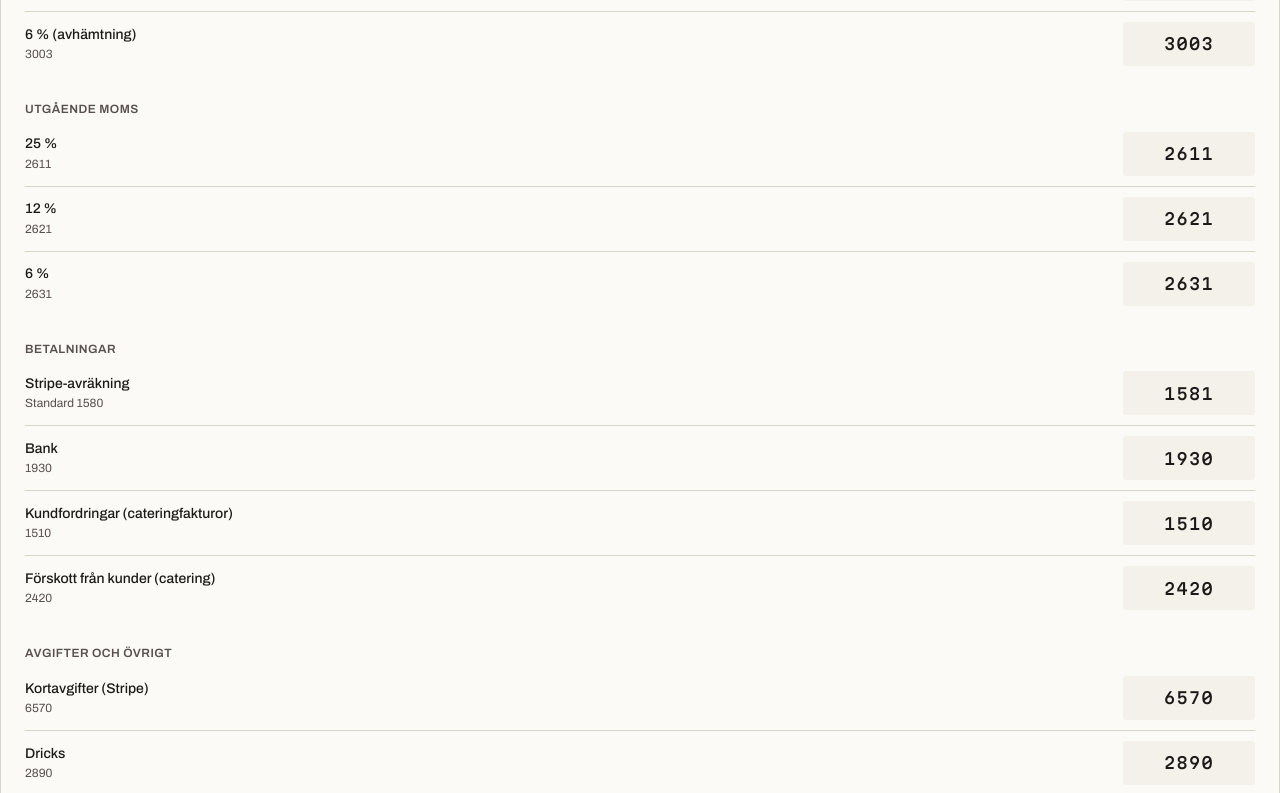
Test case: BokforingCard › validates four digits, saves and resets to the BAS defaults
The image size is (1280, 793).
(page scrolled)
expect the text "Standard 1580" is shown: met, box [25,396,103,410]
Replace the text in the field labelled "Stripe-avräkning Standard 1580" with "15a": (1189,393) [1123,371,1255,415]
(page scrolled)
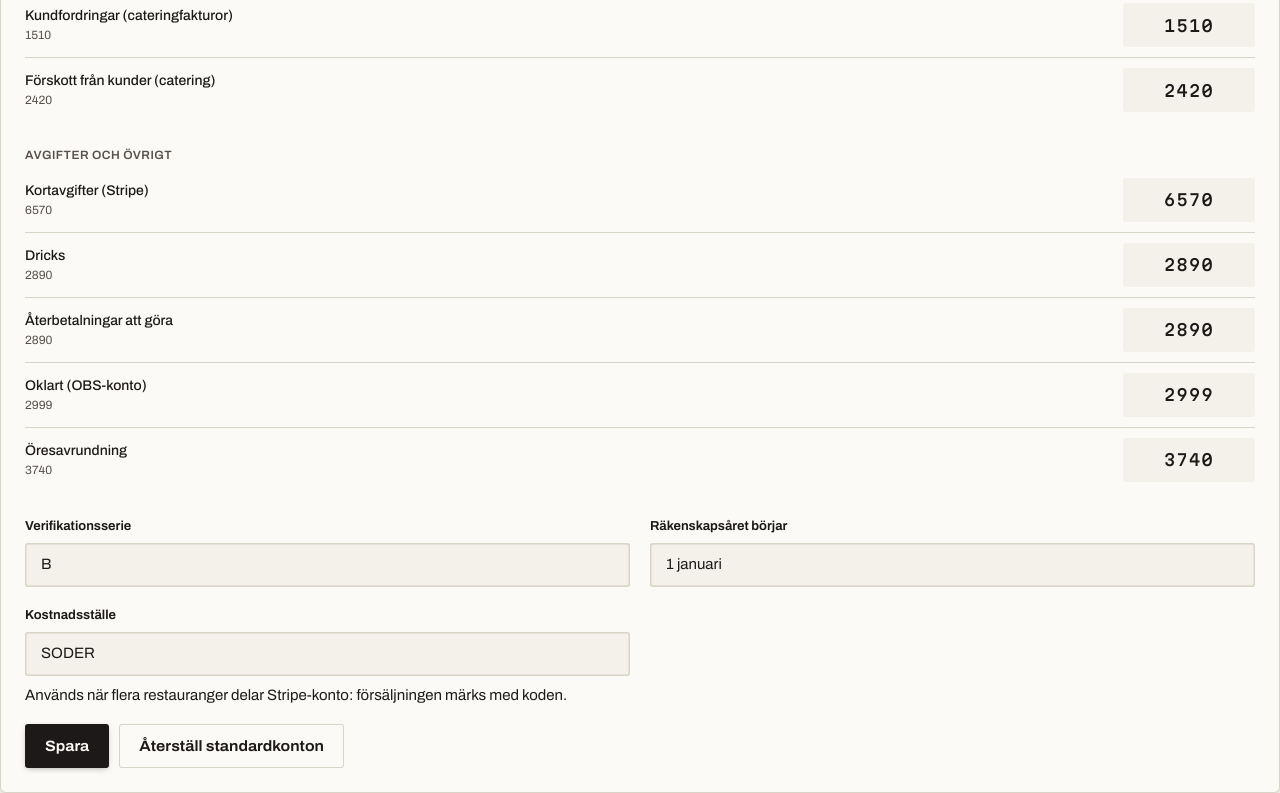
Click the button "Spara": (67,746) [25,724,109,768]
(page scrolled)
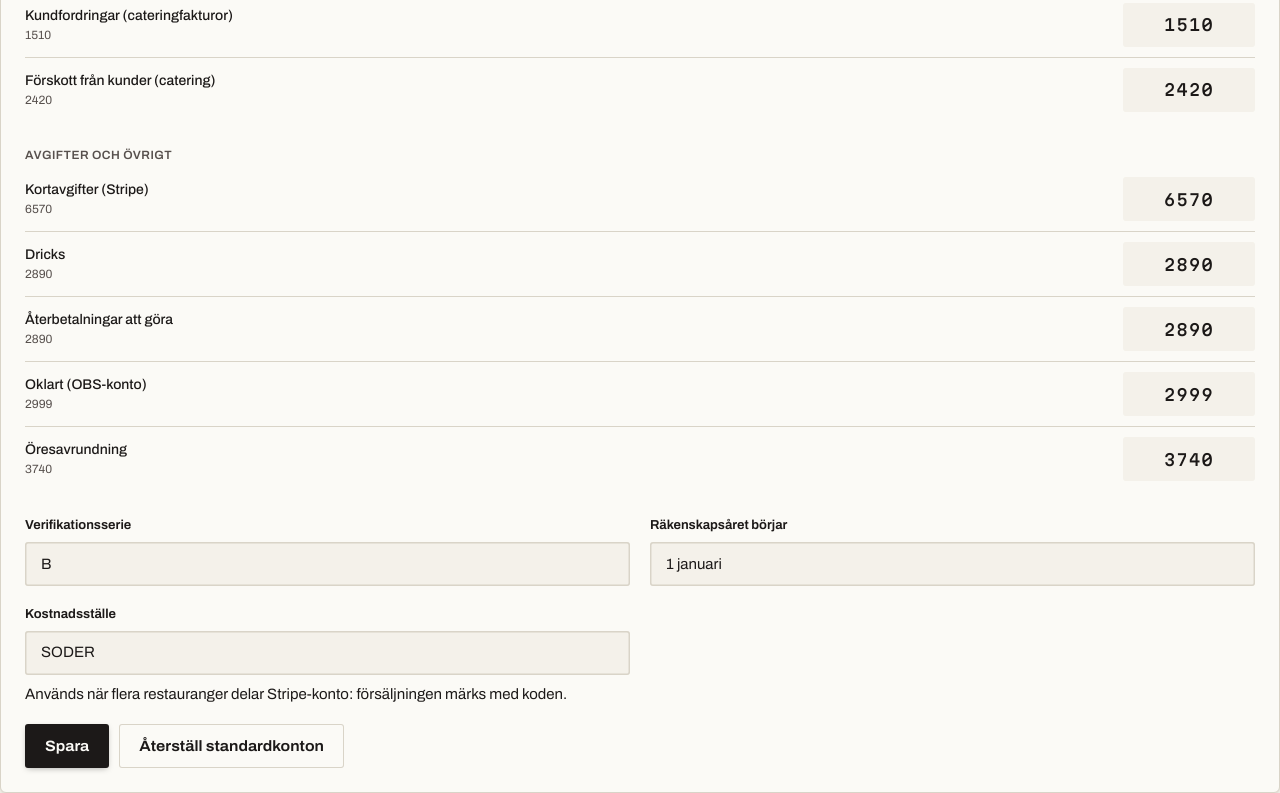
Click the button "Återställ standardkonton": (232,746) [119,724,344,768]
(page scrolled)
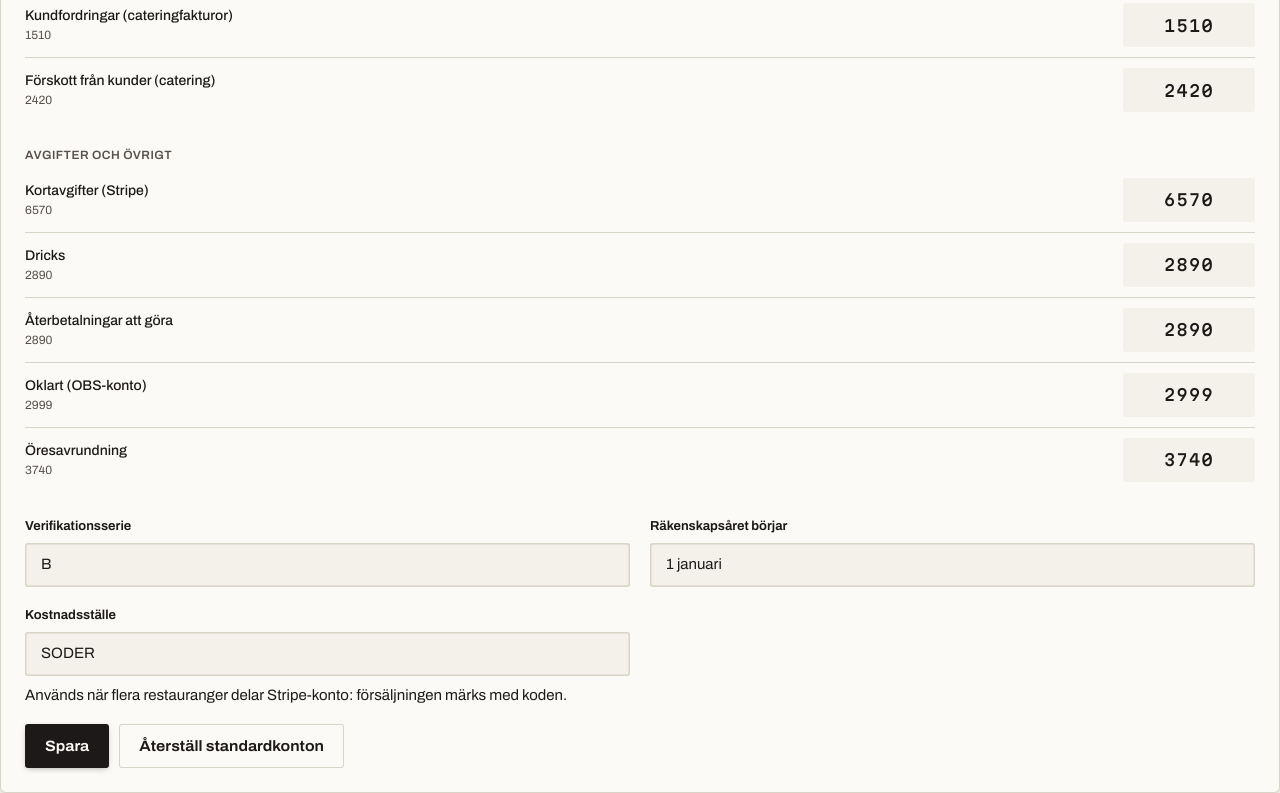
Click the button "Spara": (67,746) [25,724,109,768]
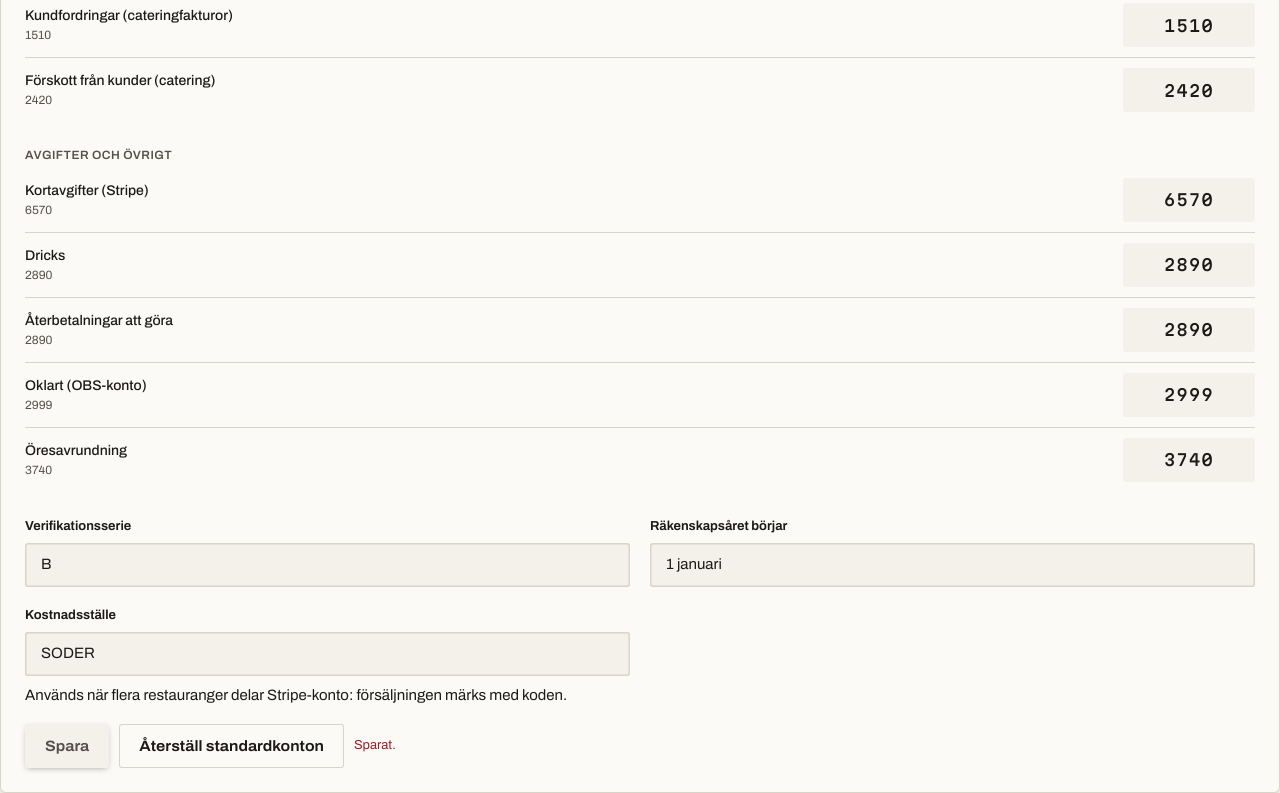
expect the text "Sparat." is shown: met, box [354,736,396,756]
